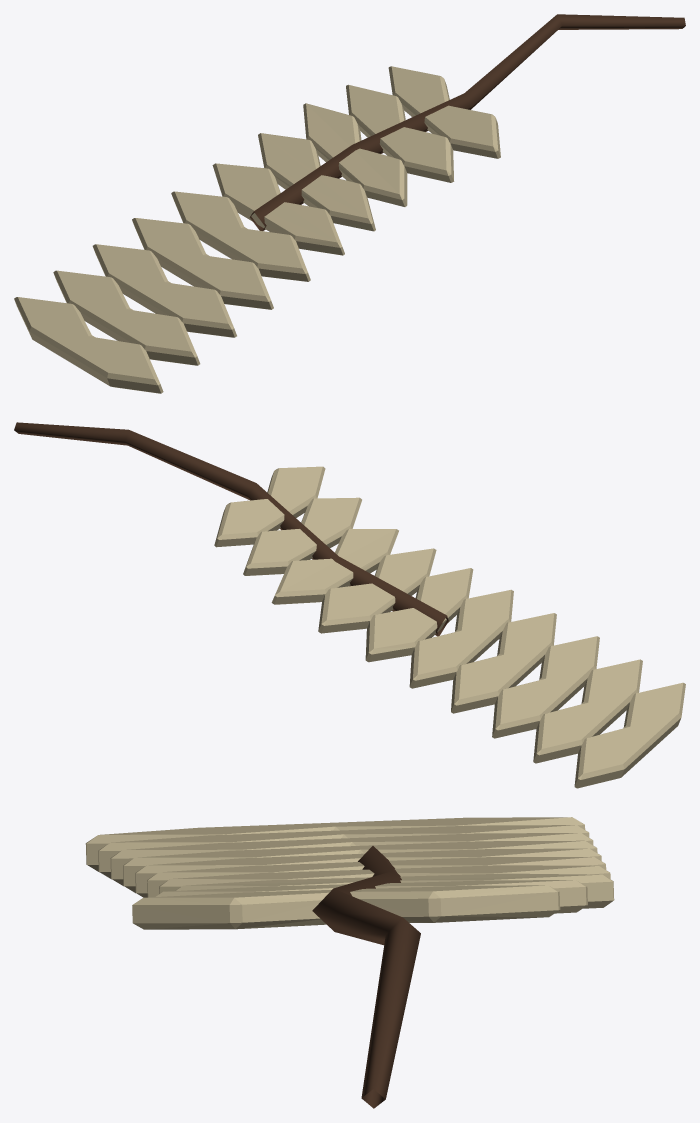
Rendered from study_segmented_spine.obj.
3 views of the same model, one above another, from view 1: azimuth 30°, elevation 25°; view 2: azimuth 150°, elevation 25°; view 3: azimuth 270°, elevation 25° (orthographic). The views are drawn at different scales.
Parts seen in each view (by area): view 1: B_VertebraSource.001_bone, C_SpineCord.001_dark_wood; view 2: B_VertebraSource.001_bone, C_SpineCord.001_dark_wood; view 3: B_VertebraSource.001_bone, C_SpineCord.001_dark_wood.
Part boxes in pixels (<box>): B_VertebraSource.001_bone: <box>14,66,500,393</box>; C_SpineCord.001_dark_wood: <box>249,14,685,230</box>; B_VertebraSource.001_bone: <box>214,466,685,788</box>; C_SpineCord.001_dark_wood: <box>14,422,448,636</box>; B_VertebraSource.001_bone: <box>85,817,614,929</box>; C_SpineCord.001_dark_wood: <box>312,846,420,1108</box>.
Bounding box in the file's own units: 2.94 × 0.9553 × 1.07.
